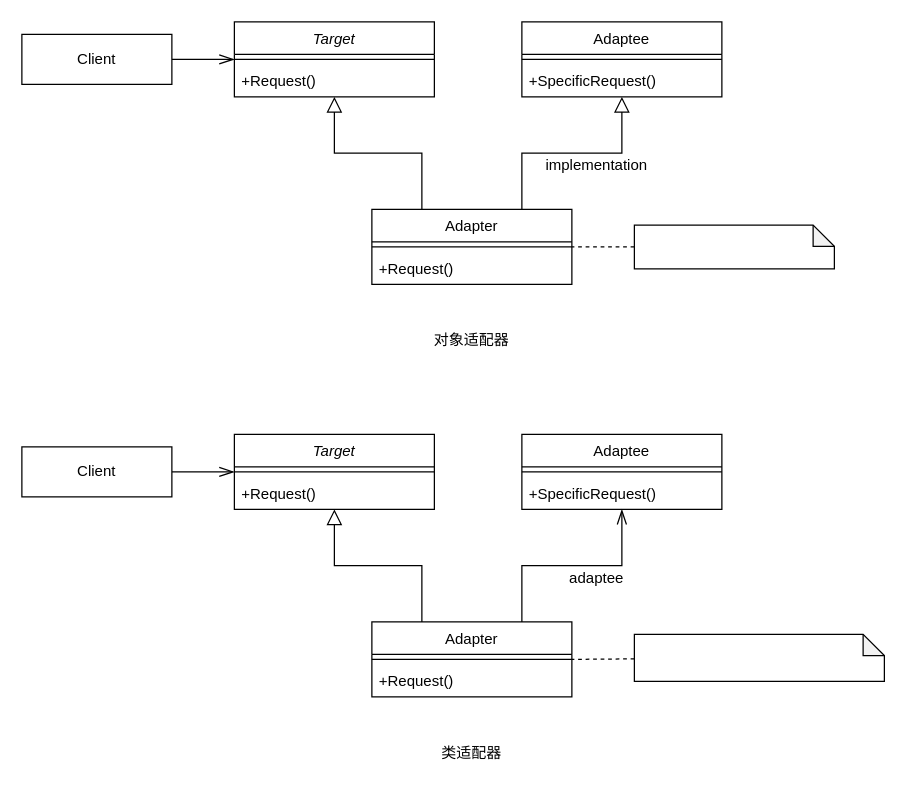
This 906x794 diagram has some shape labels left out. Each missing label, with the centre of its shape:
adaptee-->SpecificRequest(): the point at 758,657
SpecificRequest(): the point at 733,246
